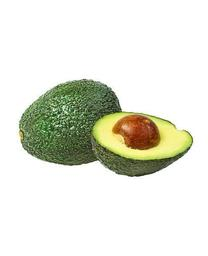avocado: (19, 78, 122, 166), (90, 111, 194, 177)
